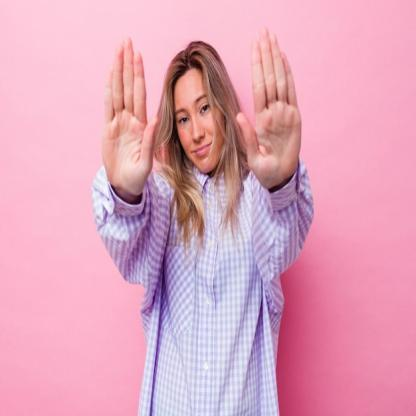stop: (233, 24, 304, 184), (102, 34, 160, 202)
